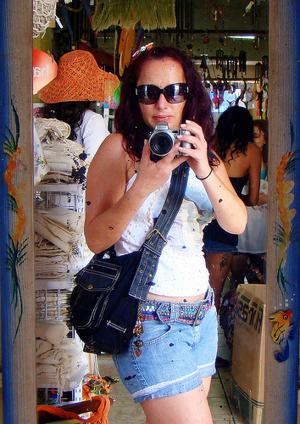person: (84, 42, 250, 424)
